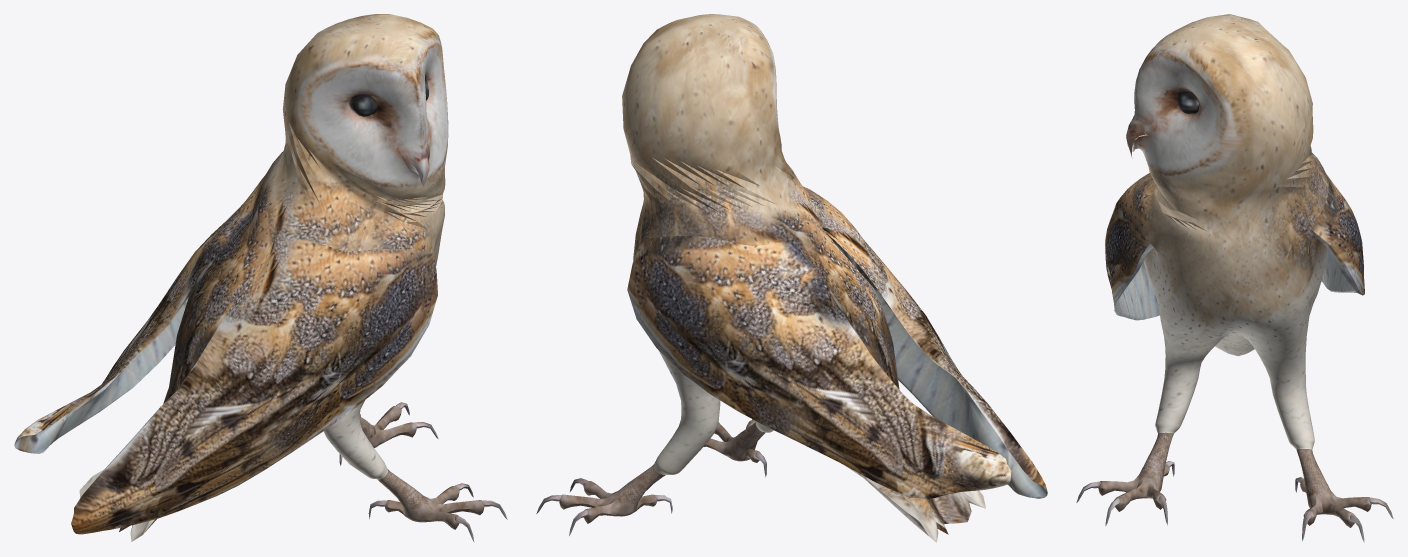
File: Owl.fbx
The picture shows the model from 3 angles, left to right: view 1: azimuth 30°, elevation 25°; view 2: azimuth 150°, elevation 25°; view 3: azimuth 270°, elevation 25°; orthographic projection.
Visible parts, largest first — view 1: Buho; view 2: Buho; view 3: Buho.
Part boxes in pixels (x1,y1,x2,y2): Buho: [14, 14, 507, 542]; Buho: [536, 14, 1047, 542]; Buho: [1076, 14, 1393, 542].
Bounding box in the file's own units: 27209 × 27908 × 17301.
1 material, 1 textured.
